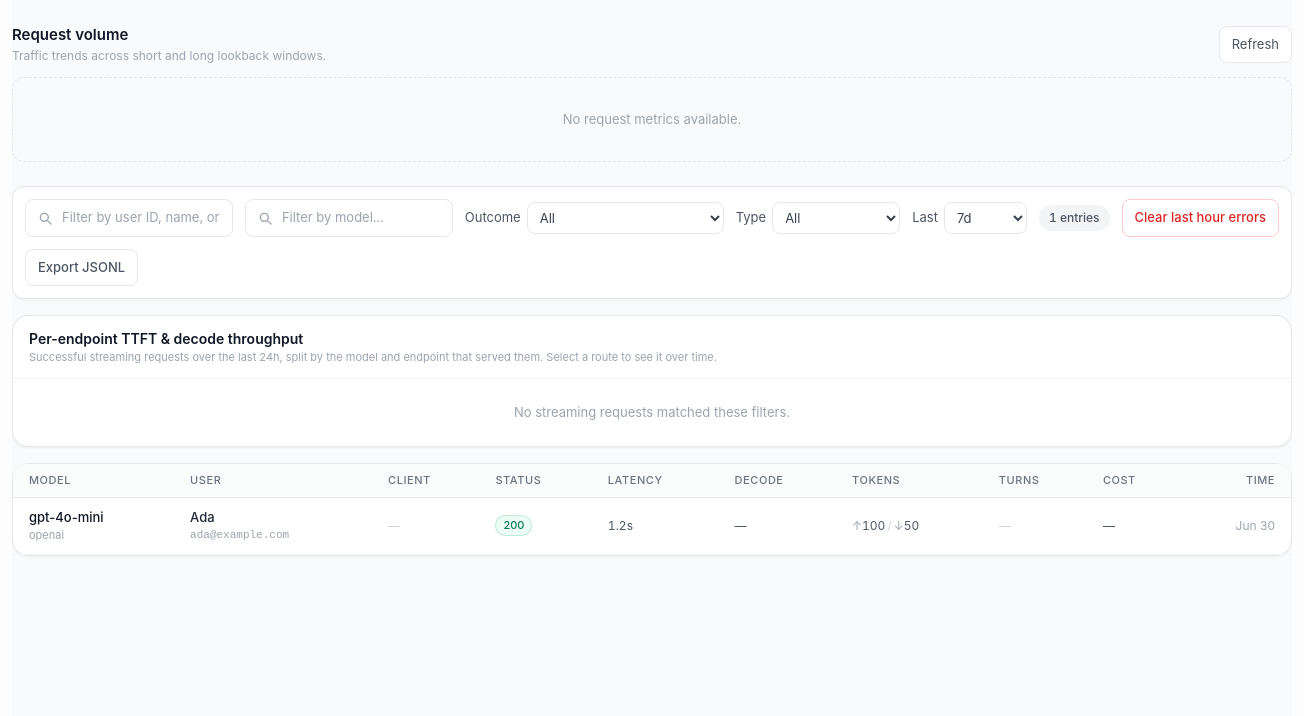
Test case: RequestsTab session labelling › renders a dash for a request that declared no session
Click the text "gpt-4o-mini": (66, 517) [29,508,104,527]
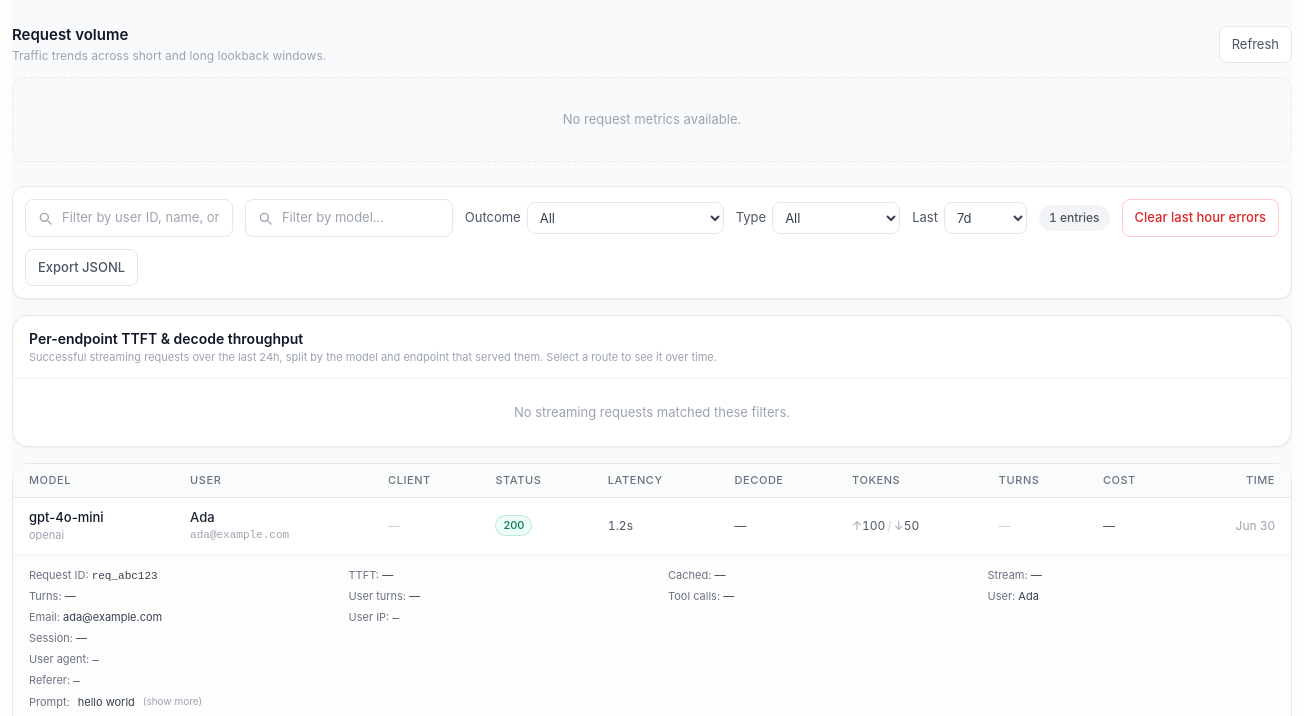
Now the text "Session:" is shown, box [29,631,73,645]
